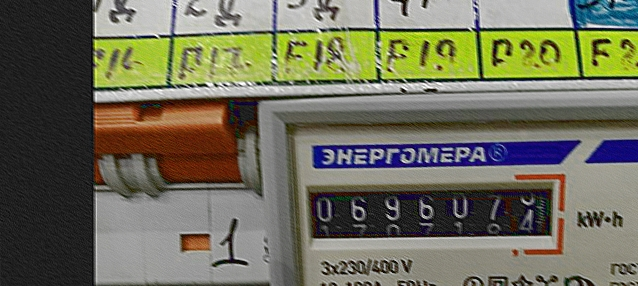0: (451, 190, 469, 220), (316, 195, 333, 223)
4: (518, 205, 535, 234)
6: (418, 191, 435, 220), (350, 194, 367, 222)
7: (485, 191, 504, 222)
9: (383, 194, 401, 222)
screen: (294, 170, 571, 255)
